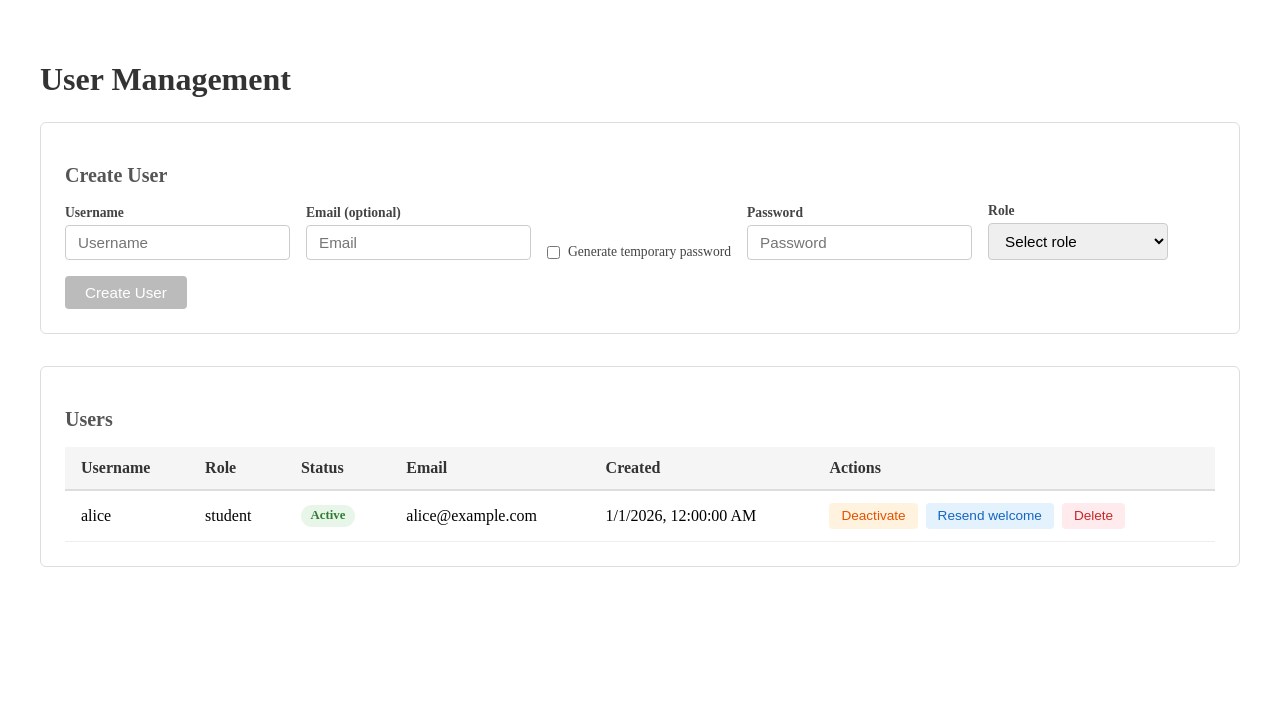
Test case: UserManagementView › deactivate button POSTs to correct endpoint and updates is_active locally
The width and height of the screenshot is (1280, 720).
Click the button with class "deactivate-btn" at {"x": 874, "y": 516}, box [829,503,918,529]
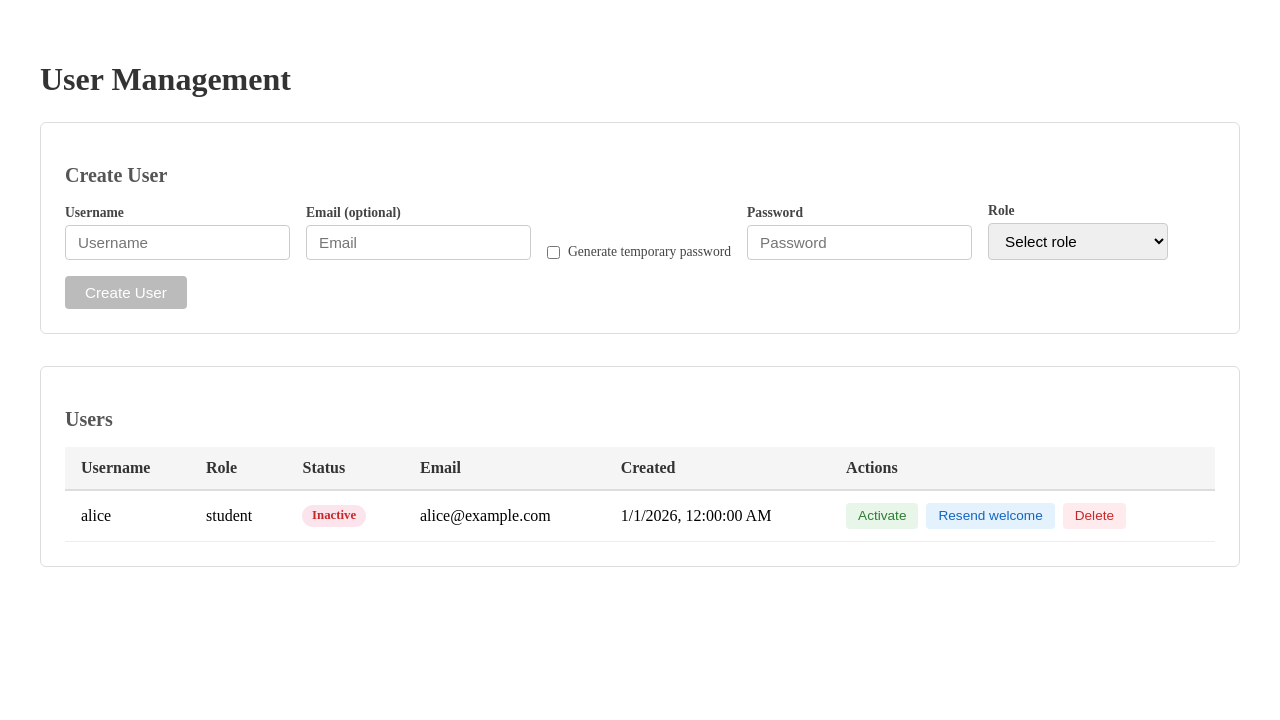
Expected: the text with class "status-badge" reads "Inactive", [312,508,356,522]
